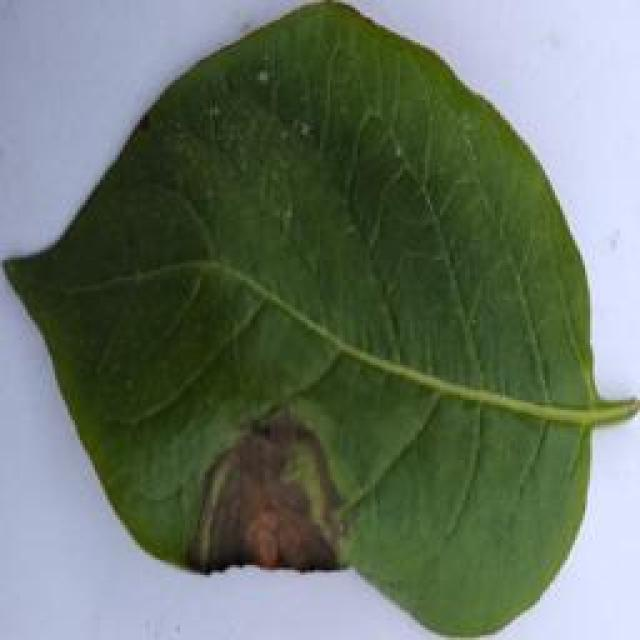Potato_Late_Blight: (4, 5, 624, 632)
